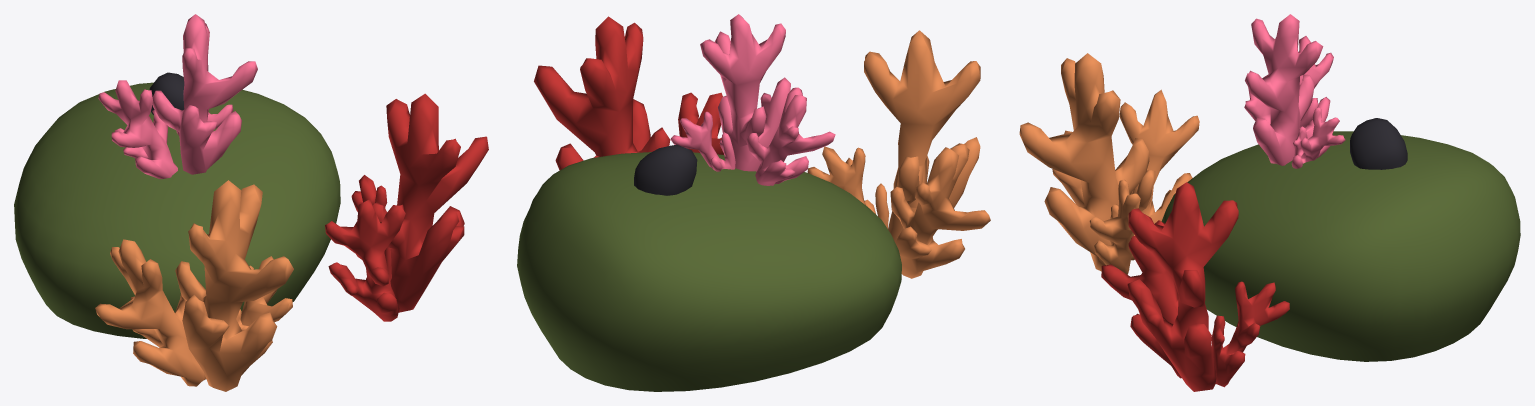
Rendered from colorFillerCoral.glb.
3 renders of one model, left to right at view 1: azimuth 30°, elevation 25°; view 2: azimuth 150°, elevation 25°; view 3: azimuth 270°, elevation 25°, orthographic. The views are drawn at different scales.
Parts seen in each view (by area): view 1: Rock.001, Coral.005, Coral.006, Coral.004, Rock 3.001; view 2: Rock.001, Coral.005, Coral.004, Coral.006, Rock 3.001; view 3: Rock.001, Coral.005, Coral.006, Coral.004, Rock 3.001.
Boxes of the visible parts, left/top/right/bottom form: Rock.001: left=14, top=82, right=340, bottom=338; Coral.005: left=95, top=180, right=293, bottom=391; Coral.006: left=325, top=93, right=488, bottom=321; Coral.004: left=98, top=14, right=257, bottom=178; Rock 3.001: left=149, top=72, right=184, bottom=114; Rock.001: left=517, top=152, right=901, bottom=391; Coral.005: left=807, top=30, right=990, bottom=278; Coral.004: left=670, top=14, right=835, bottom=185; Coral.006: left=534, top=16, right=723, bottom=170; Rock 3.001: left=634, top=144, right=697, bottom=195; Rock.001: left=1161, top=131, right=1520, bottom=361; Coral.005: left=1019, top=53, right=1199, bottom=274; Coral.006: left=1101, top=182, right=1289, bottom=391; Coral.004: left=1244, top=14, right=1345, bottom=168; Rock 3.001: left=1350, top=118, right=1407, bottom=169.
Bounding box in the file's own units: 6.37 × 4.45 × 6.8.
